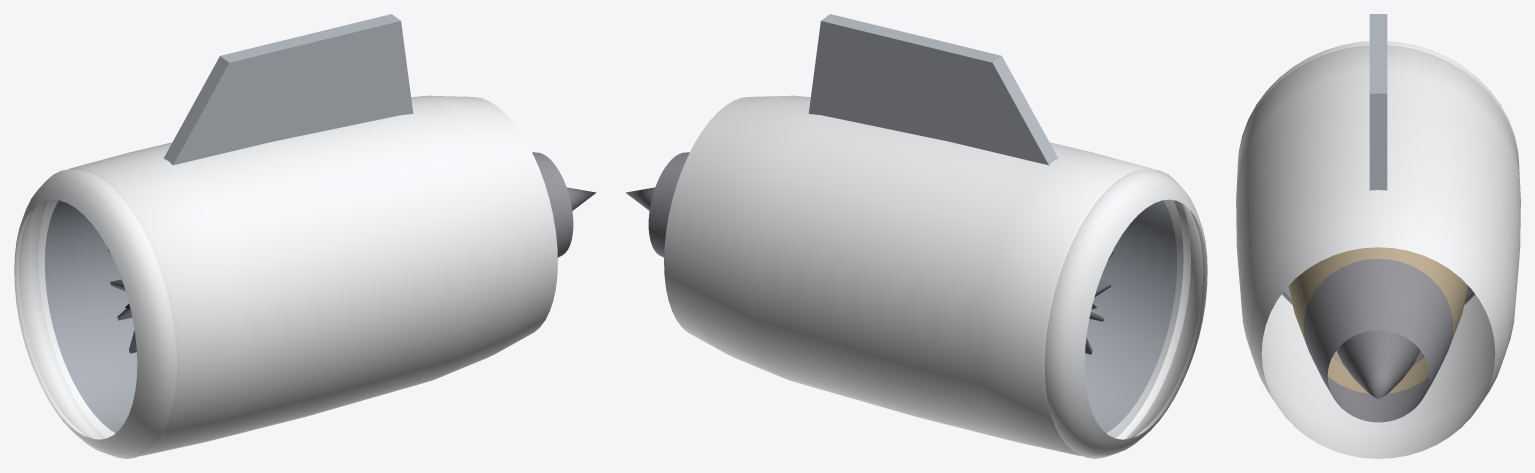
Rendered from engine-v2500.glb.
The picture shows the model from 3 angles, left to right: view 1: azimuth 30°, elevation 25°; view 2: azimuth 150°, elevation 25°; view 3: azimuth 270°, elevation 25°; orthographic projection. The views are drawn at different scales.
Parts seen in each view (by area): view 1: 01_Nacelle_Cowl, 10_Pylon, 01b_Inlet_Lip, 02_Fan_Case, 08_Exhaust_Nozzle; view 2: 01_Nacelle_Cowl, 10_Pylon, 01b_Inlet_Lip, 02_Fan_Case, 08_Exhaust_Nozzle; view 3: 01_Nacelle_Cowl, 08_Exhaust_Nozzle, 05_Core_Casing, 09_Exhaust_Plug, 10_Pylon, 01b_Inlet_Lip.
Part boxes in pixels (x1=…): 01_Nacelle_Cowl: x1=18, y1=95, x2=557, y2=456; 10_Pylon: x1=163, y1=14, x2=413, y2=165; 01b_Inlet_Lip: x1=14, y1=169, x2=177, y2=458; 02_Fan_Case: x1=44, y1=200, x2=137, y2=432; 08_Exhaust_Nozzle: x1=532, y1=152, x2=573, y2=257; 01_Nacelle_Cowl: x1=664, y1=95, x2=1203, y2=456; 10_Pylon: x1=808, y1=14, x2=1058, y2=165; 01b_Inlet_Lip: x1=1044, y1=169, x2=1207, y2=458; 02_Fan_Case: x1=1084, y1=200, x2=1177, y2=432; 08_Exhaust_Nozzle: x1=648, y1=152, x2=689, y2=257; 01_Nacelle_Cowl: x1=1236, y1=45, x2=1520, y2=458; 08_Exhaust_Nozzle: x1=1303, y1=258, x2=1453, y2=422; 05_Core_Casing: x1=1288, y1=247, x2=1468, y2=393; 09_Exhaust_Plug: x1=1336, y1=330, x2=1420, y2=399; 10_Pylon: x1=1369, y1=14, x2=1387, y2=190; 01b_Inlet_Lip: x1=1237, y1=41, x2=1519, y2=167.
Size of the model in its own units: 3.82 by 2.52 by 1.9.
